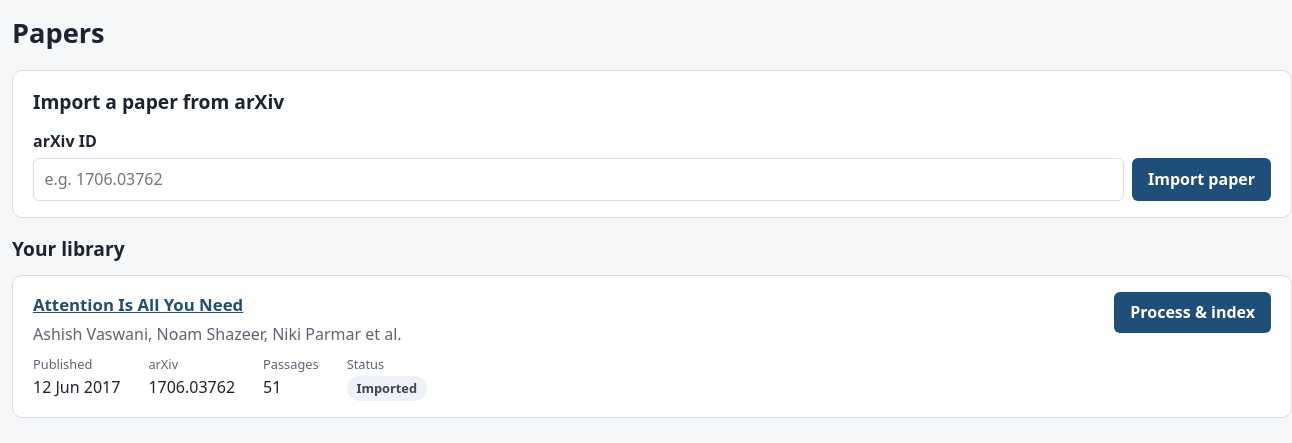
Test: PapersPage › shows a processing error
Click the button "Process & index": point(1193, 313) [1114,292,1271,333]
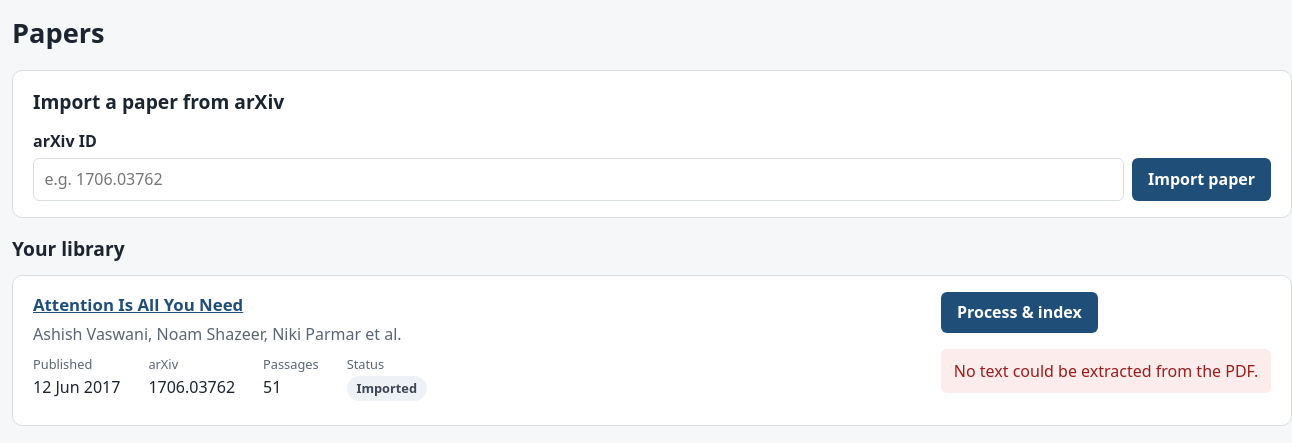
Expected: the message shows "No text could be extracted", [954,360,1258,382]
